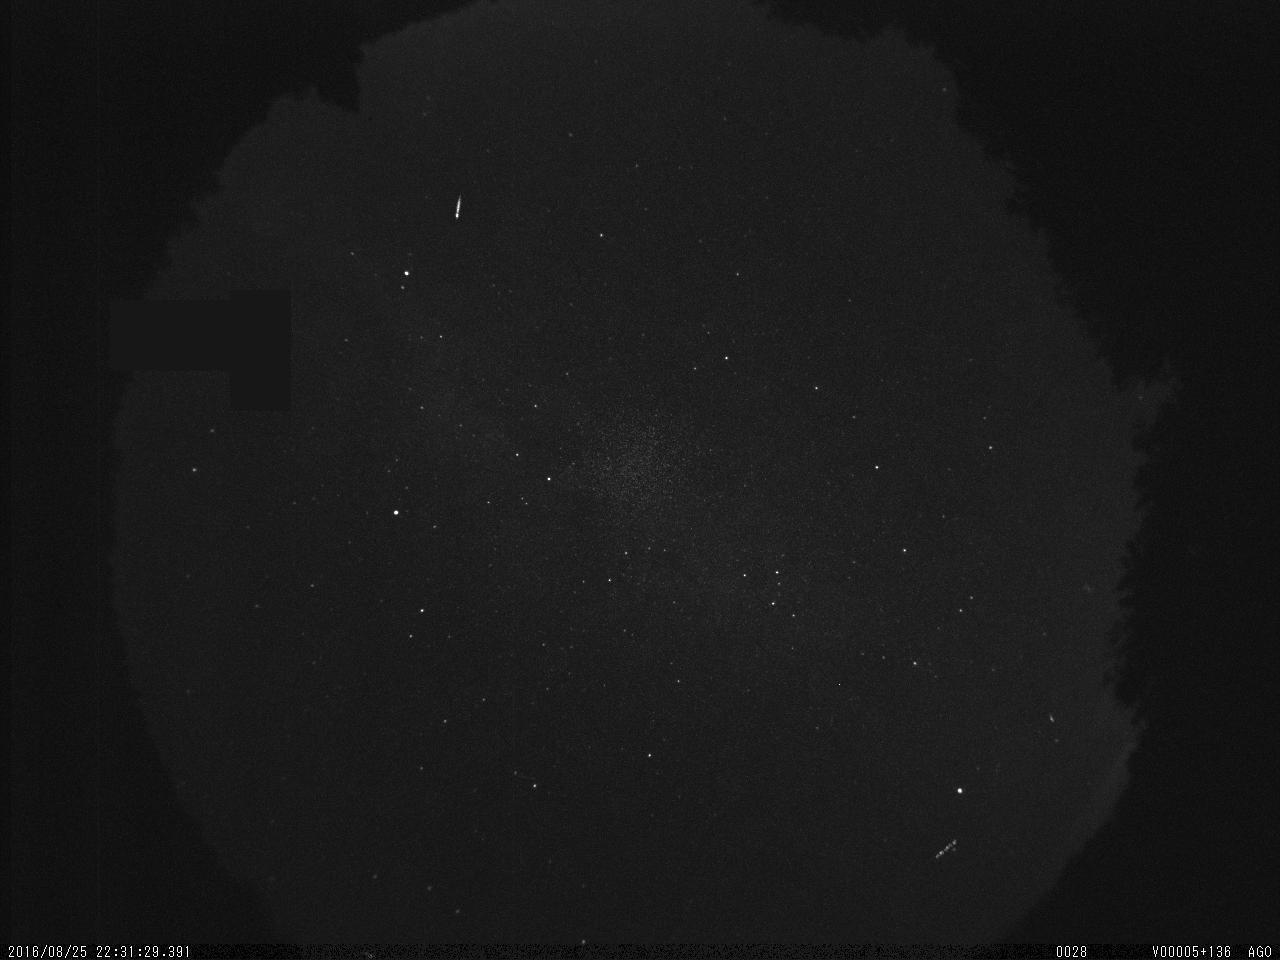Meteor: (452, 192, 464, 222)
